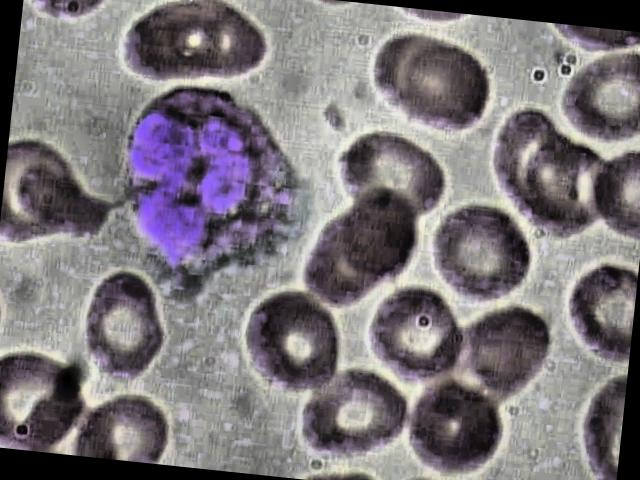RBC: (112, 0, 281, 98), (286, 363, 424, 480), (236, 283, 343, 407), (66, 267, 172, 391), (425, 199, 538, 313), (389, 36, 502, 150), (328, 183, 440, 296), (453, 304, 562, 404), (364, 287, 473, 387), (401, 382, 510, 480)
WBC: (109, 76, 321, 310)
